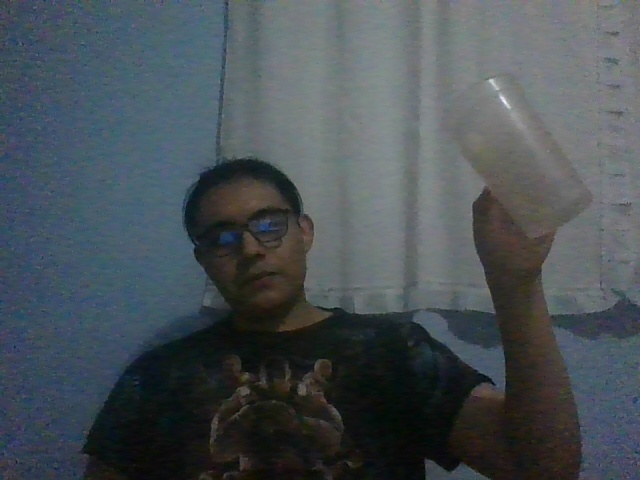vaso: (439, 71, 595, 240)
